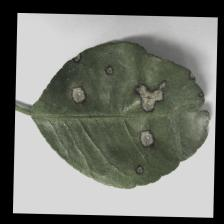canker: (66, 50, 174, 150)
